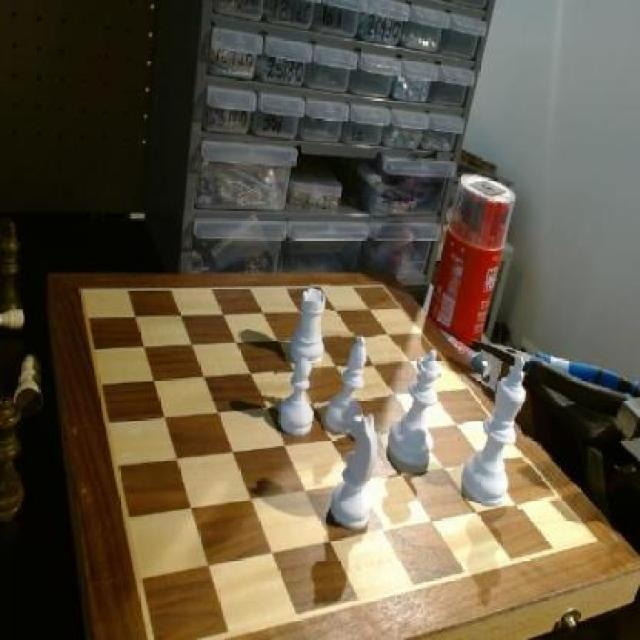black-rook: (324, 332, 376, 440)
white-bishop: (462, 354, 528, 510)
white-king: (322, 414, 383, 538)
white-knight: (274, 355, 318, 443)
white-pawn: (389, 345, 451, 470)
white-queen: (290, 286, 332, 372)
